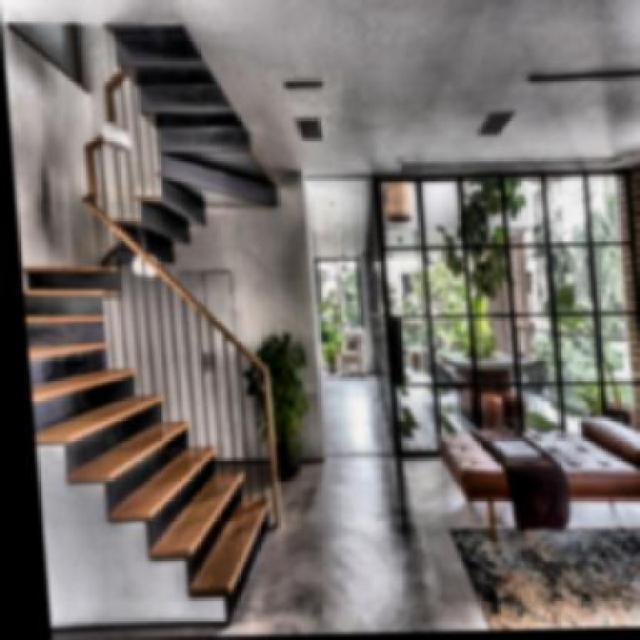stair: (17, 258, 282, 632)
